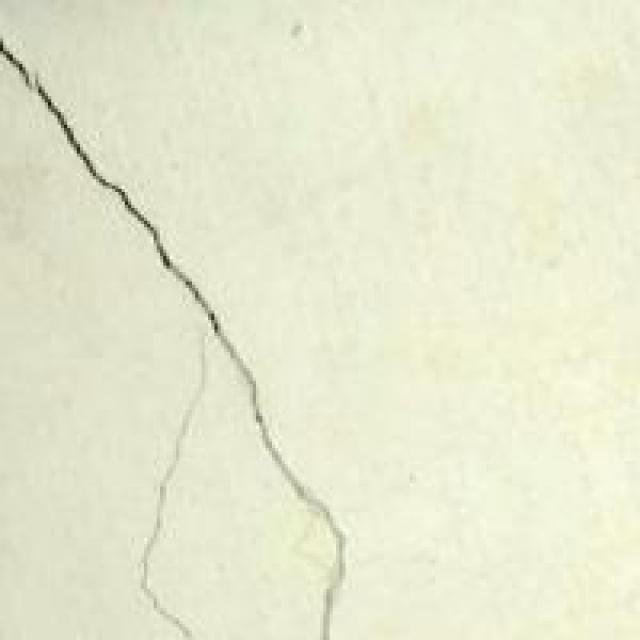crack: (0, 22, 378, 637)
